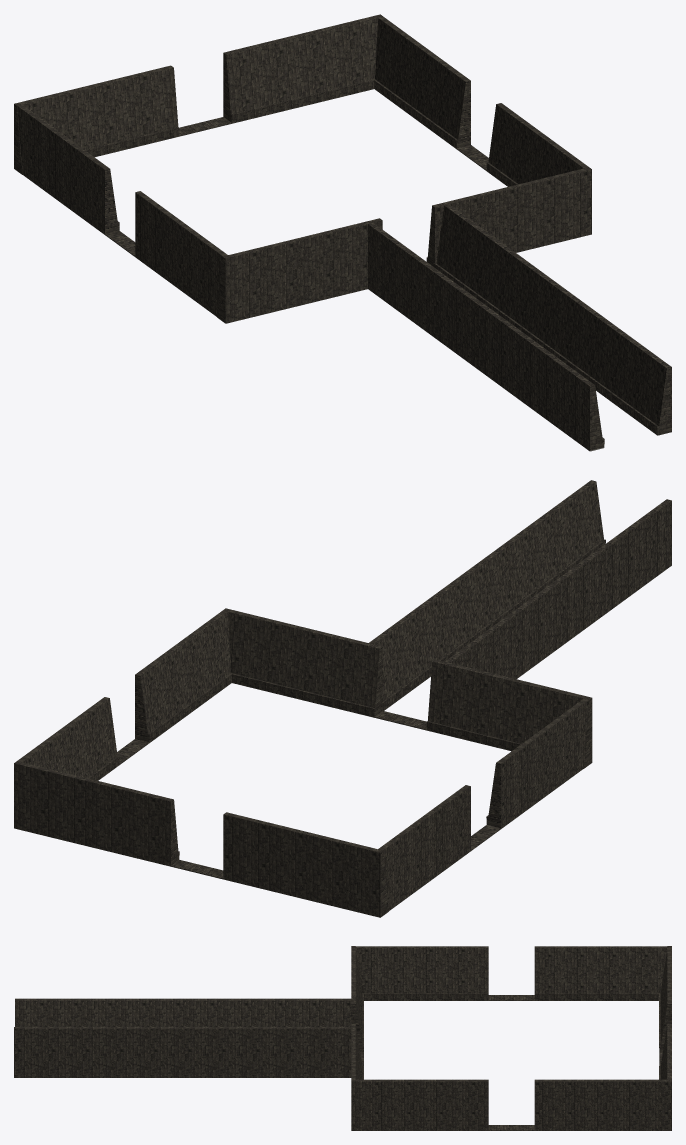
The model's file is room_4exits.fbx.
3 views of the same model, one above another, from view 1: azimuth 30°, elevation 25°; view 2: azimuth 150°, elevation 25°; view 3: azimuth 270°, elevation 25° (orthographic). The views are drawn at different scales.
Visible parts, largest first — view 1: pCube14; view 2: pCube14; view 3: pCube14.
Boxes of the visible parts, x1,y1,x2,y2 form: pCube14: [14, 14, 671, 451]; pCube14: [14, 480, 671, 917]; pCube14: [14, 946, 671, 1130].
Size of the model in its own units: 70.69 by 12 by 145.
2 materials, 1 textured.
